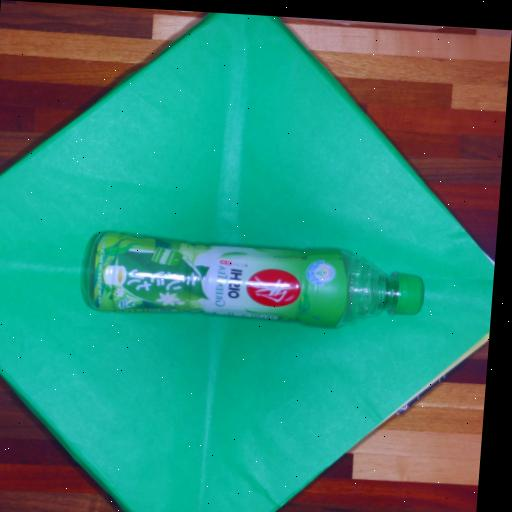bottle: (83, 229, 427, 331)
